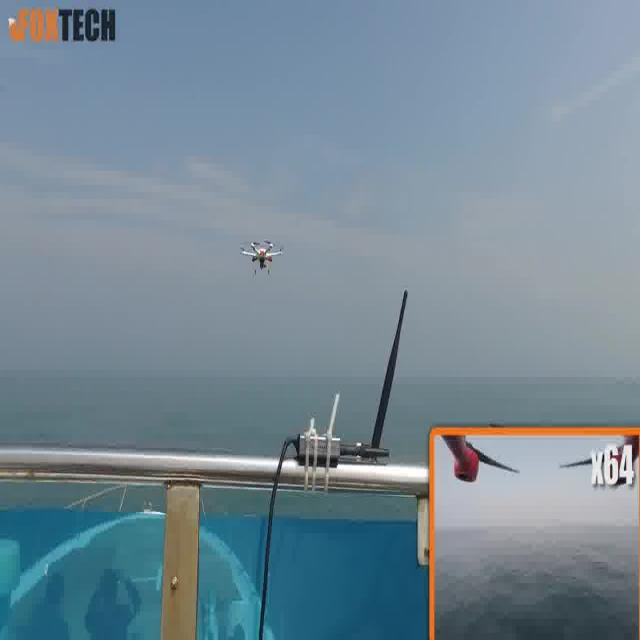drone: (237, 236, 285, 280)
